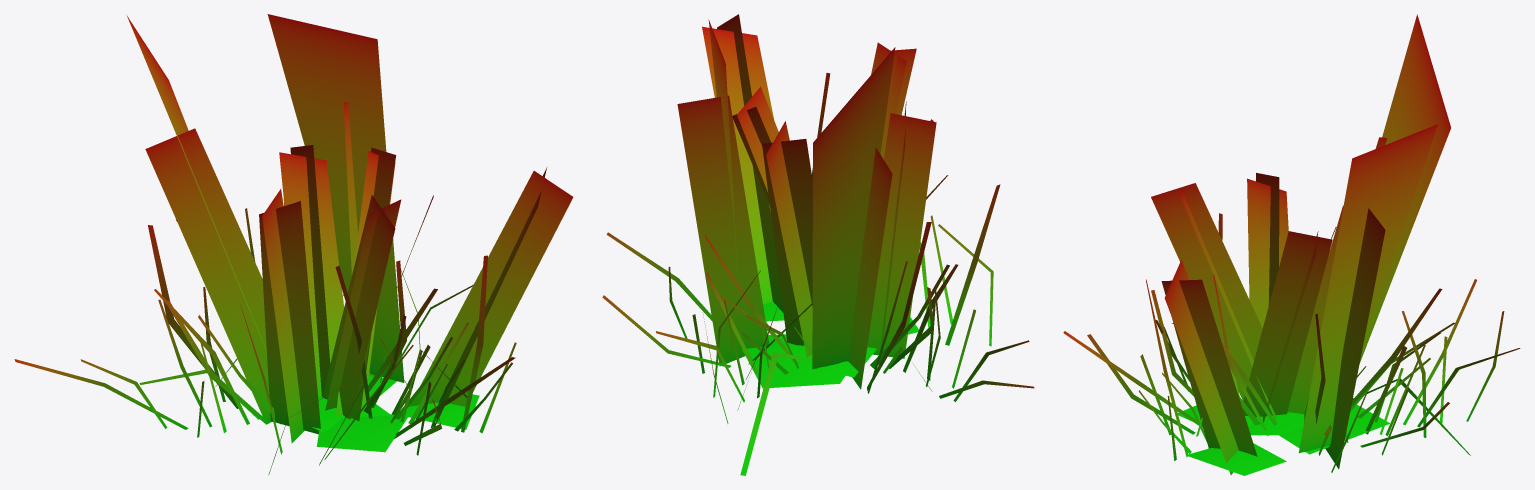
Rendered from Var12_LOD3.fbx.
3 views of the same model, side by side, from view 1: azimuth 30°, elevation 25°; view 2: azimuth 150°, elevation 25°; view 3: azimuth 270°, elevation 25° (orthographic). The views are drawn at different scales.
Parts seen in each view (by area): view 1: _547e_Var12_LOD3; view 2: _547e_Var12_LOD3; view 3: _547e_Var12_LOD3.
Boxes of the visible parts, bbox=[...] form: _547e_Var12_LOD3: bbox=[14, 14, 573, 475]; _547e_Var12_LOD3: bbox=[602, 14, 1034, 475]; _547e_Var12_LOD3: bbox=[1063, 14, 1520, 475].
Bounding box in the file's own units: 15.57 × 13.92 × 14.86.
